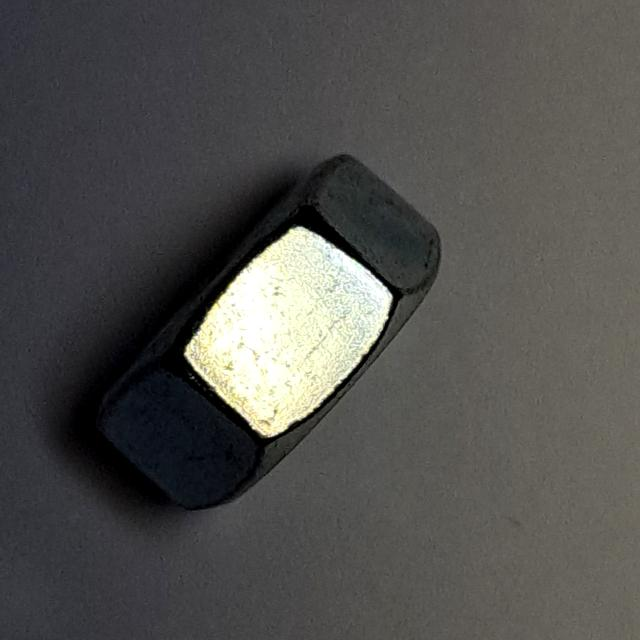Side_Excellent: (75, 138, 459, 528)
